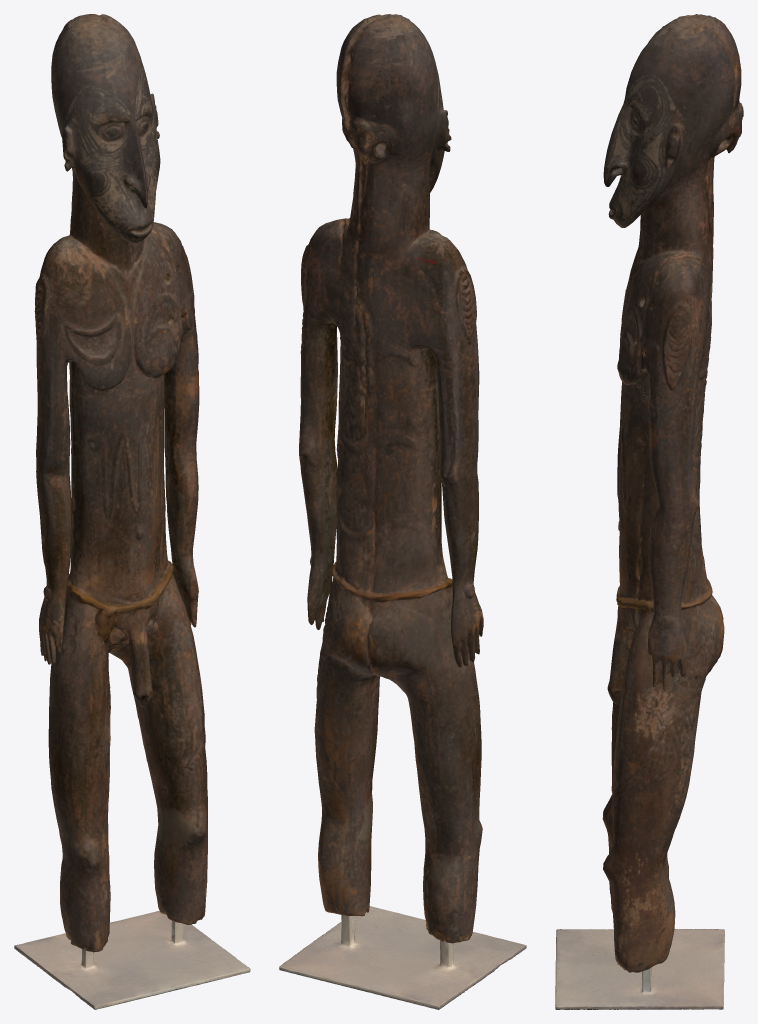
File: preview.glb
3 renders of one model, left to right at view 1: azimuth 30°, elevation 25°; view 2: azimuth 150°, elevation 25°; view 3: azimuth 270°, elevation 25°, orthographic. The views are drawn at different scales.
Parts seen in each view (by area): view 1: _979_206_1561_SawosFigure_SP_Edit_n3d; view 2: _979_206_1561_SawosFigure_SP_Edit_n3d; view 3: _979_206_1561_SawosFigure_SP_Edit_n3d.
Boxes of the visible parts, x1,y1,x2,y2 form: _979_206_1561_SawosFigure_SP_Edit_n3d: [14, 14, 250, 1009]; _979_206_1561_SawosFigure_SP_Edit_n3d: [279, 14, 526, 1009]; _979_206_1561_SawosFigure_SP_Edit_n3d: [555, 14, 743, 1009].
Bounding box in the file's own units: 0.00338 × 0.0187 × 0.00338.
Materials: 2 (2 with a texture image).
